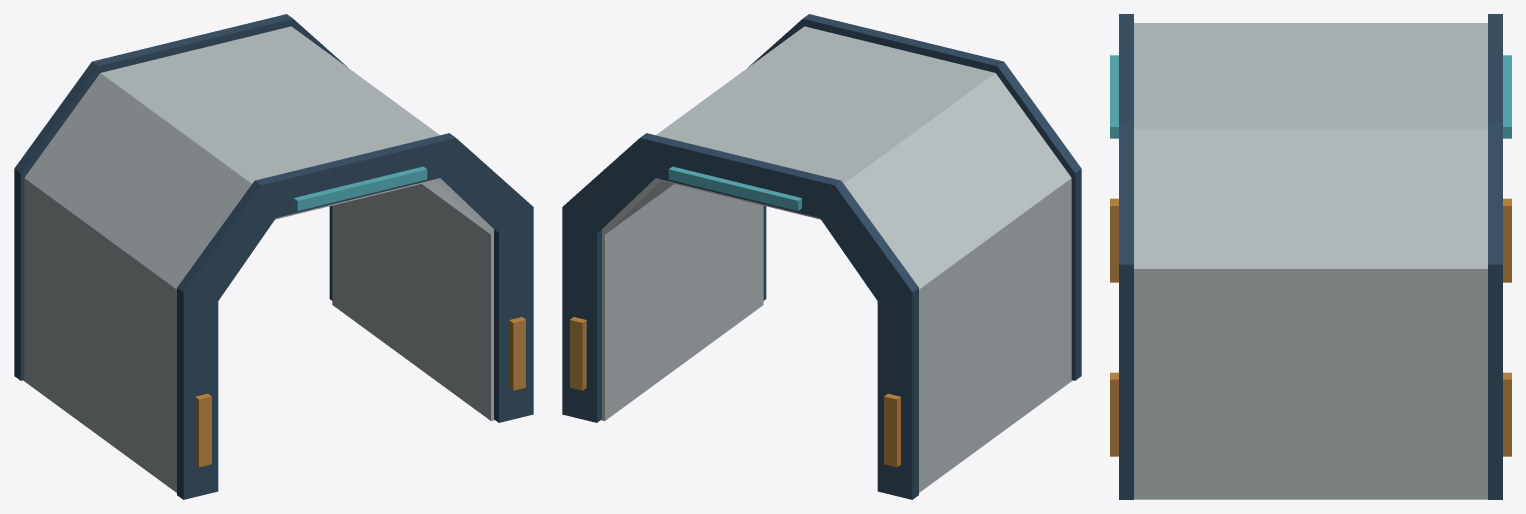
The model's file is SpaceStation_AirlockTunnel_Simple.glb.
The picture shows the model from 3 angles, left to right: view 1: azimuth 30°, elevation 25°; view 2: azimuth 150°, elevation 25°; view 3: azimuth 270°, elevation 25°; orthographic projection. The views are drawn at different scales.
Visible parts, largest first — view 1: SpaceStation_AirlockTunnel_Simple; view 2: SpaceStation_AirlockTunnel_Simple; view 3: SpaceStation_AirlockTunnel_Simple.
Boxes of the visible parts, bbox=[...] form: SpaceStation_AirlockTunnel_Simple: bbox=[14, 14, 533, 499]; SpaceStation_AirlockTunnel_Simple: bbox=[562, 14, 1081, 499]; SpaceStation_AirlockTunnel_Simple: bbox=[1110, 14, 1511, 499].
Bounding box in the file's own units: 4.32 × 3.5 × 3.79.
